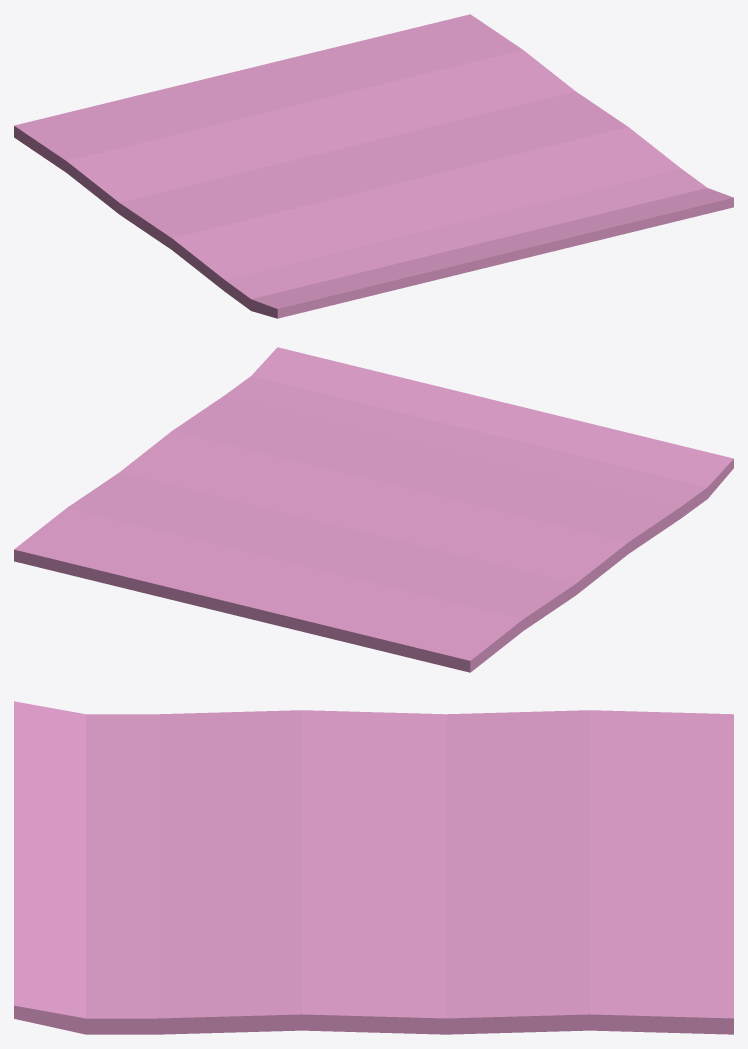
Rendered from fabric.fbx.
3 views of the same model, one above another, from view 1: azimuth 30°, elevation 25°; view 2: azimuth 150°, elevation 25°; view 3: azimuth 270°, elevation 25° (orthographic). The views are drawn at different scales.
Visible parts, largest first — view 1: Cube.003; view 2: Cube.003; view 3: Cube.003.
Boxes of the visible parts, box(x1,y1,x2,y2) form: Cube.003: box(14, 14, 733, 318); Cube.003: box(14, 347, 733, 672); Cube.003: box(14, 701, 733, 1034).
Size of the model in its own units: 10 by 0.4456 by 10.
